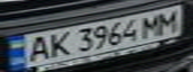3: (72, 25, 96, 54)
4: (121, 17, 145, 43)
6: (106, 19, 127, 47)
9: (90, 22, 112, 51)
A: (21, 34, 54, 63)
K: (42, 29, 72, 60)
M: (151, 8, 184, 35), (136, 11, 166, 38)
